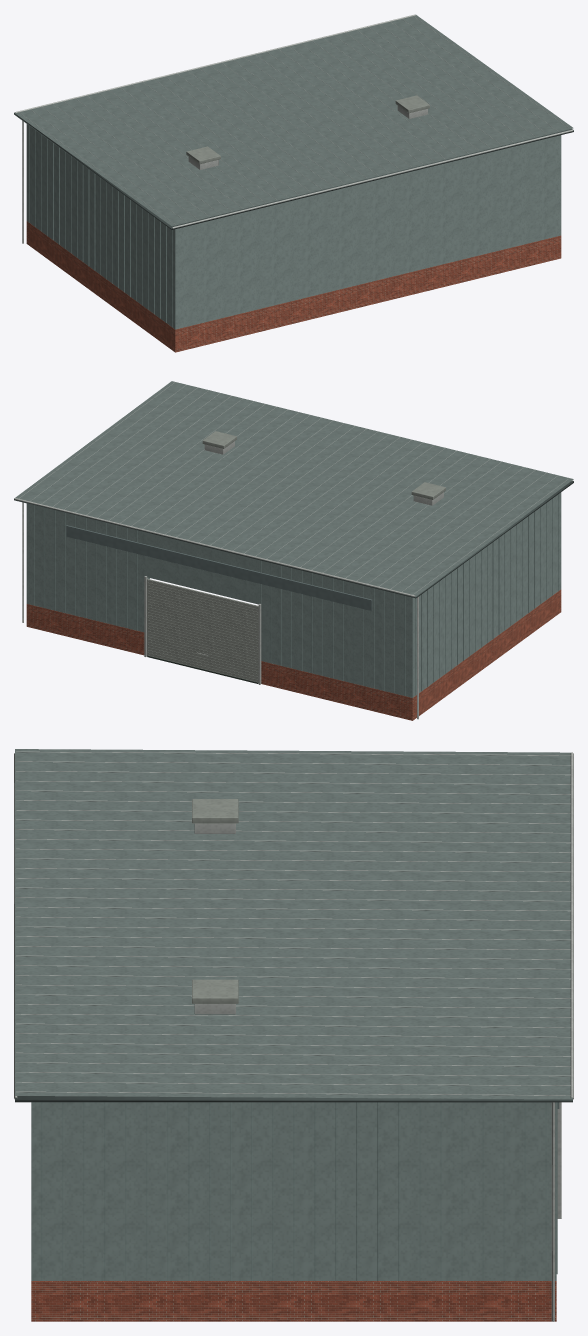
Rendered from workshop_shell.glb.
3 views of the same model, one above another, from view 1: azimuth 30°, elevation 25°; view 2: azimuth 150°, elevation 25°; view 3: azimuth 270°, elevation 25° (orthographic). The views are drawn at different scales.
Visible parts, largest first — view 1: WorkshopFacadeSurface, WorkshopRoofSurface; view 2: WorkshopRoofSurface, WorkshopFacadeSurface, WorkshopClosedLoadingSurface; view 3: WorkshopRoofSurface, WorkshopFacadeSurface.
Part boxes in pixels (x1,y1,x2,y2): WorkshopFacadeSurface: (22,121,561,352); WorkshopRoofSurface: (14,14,573,229); WorkshopRoofSurface: (14,381,573,598); WorkshopFacadeSurface: (22,492,561,720); WorkshopClosedLoadingSurface: (144,576,261,684); WorkshopRoofSurface: (14,749,573,1102); WorkshopFacadeSurface: (31,1102,559,1321).
Bounding box in the file's own units: 25 × 8.39 × 17.06.
Materials: 3 (3 with a texture image).
